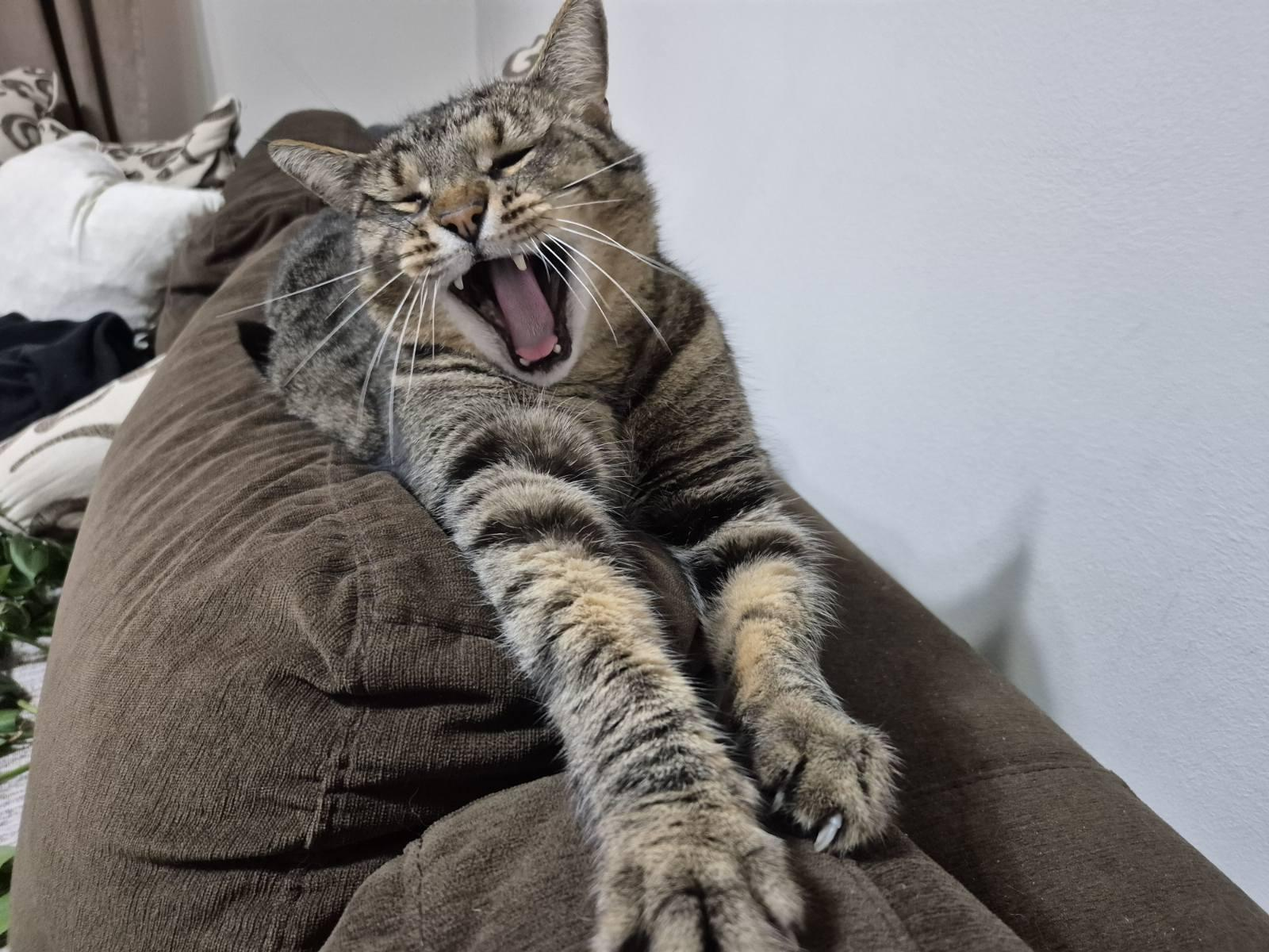macka: (265, 0, 906, 951)
